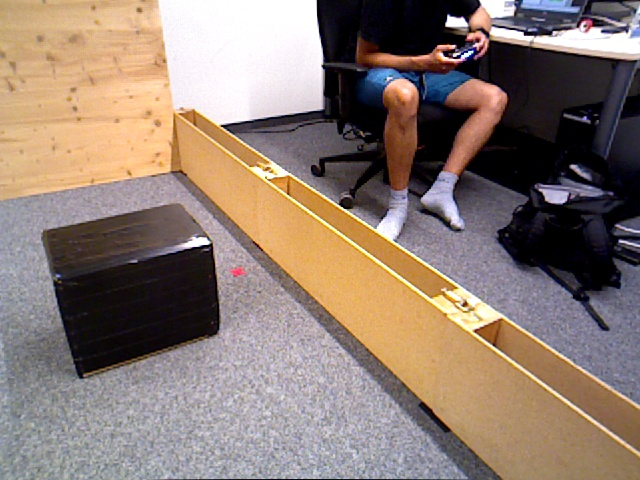push: (44, 203, 220, 378)
